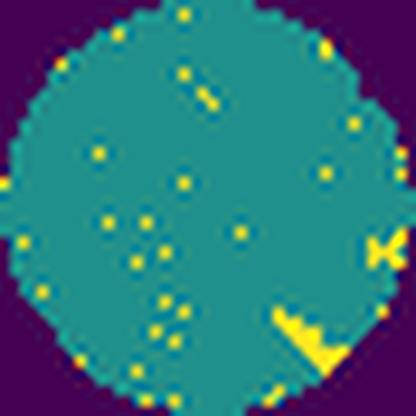Loc: (270, 307, 347, 374), (368, 222, 406, 266)
